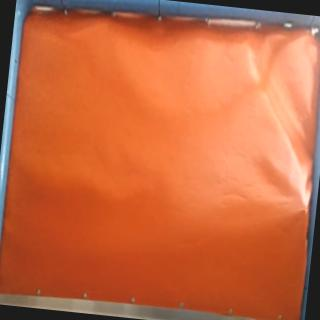Hit-hRxx: (297, 198, 311, 216)
